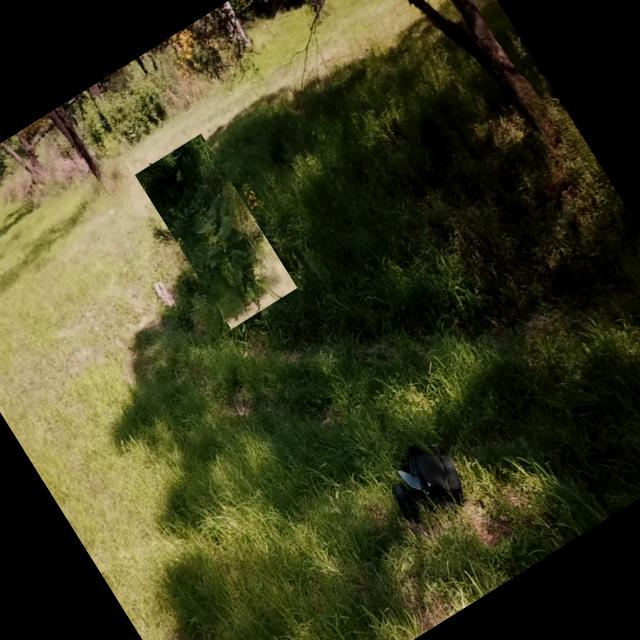Mysore-Thorn-Weed: (135, 133, 297, 328)
